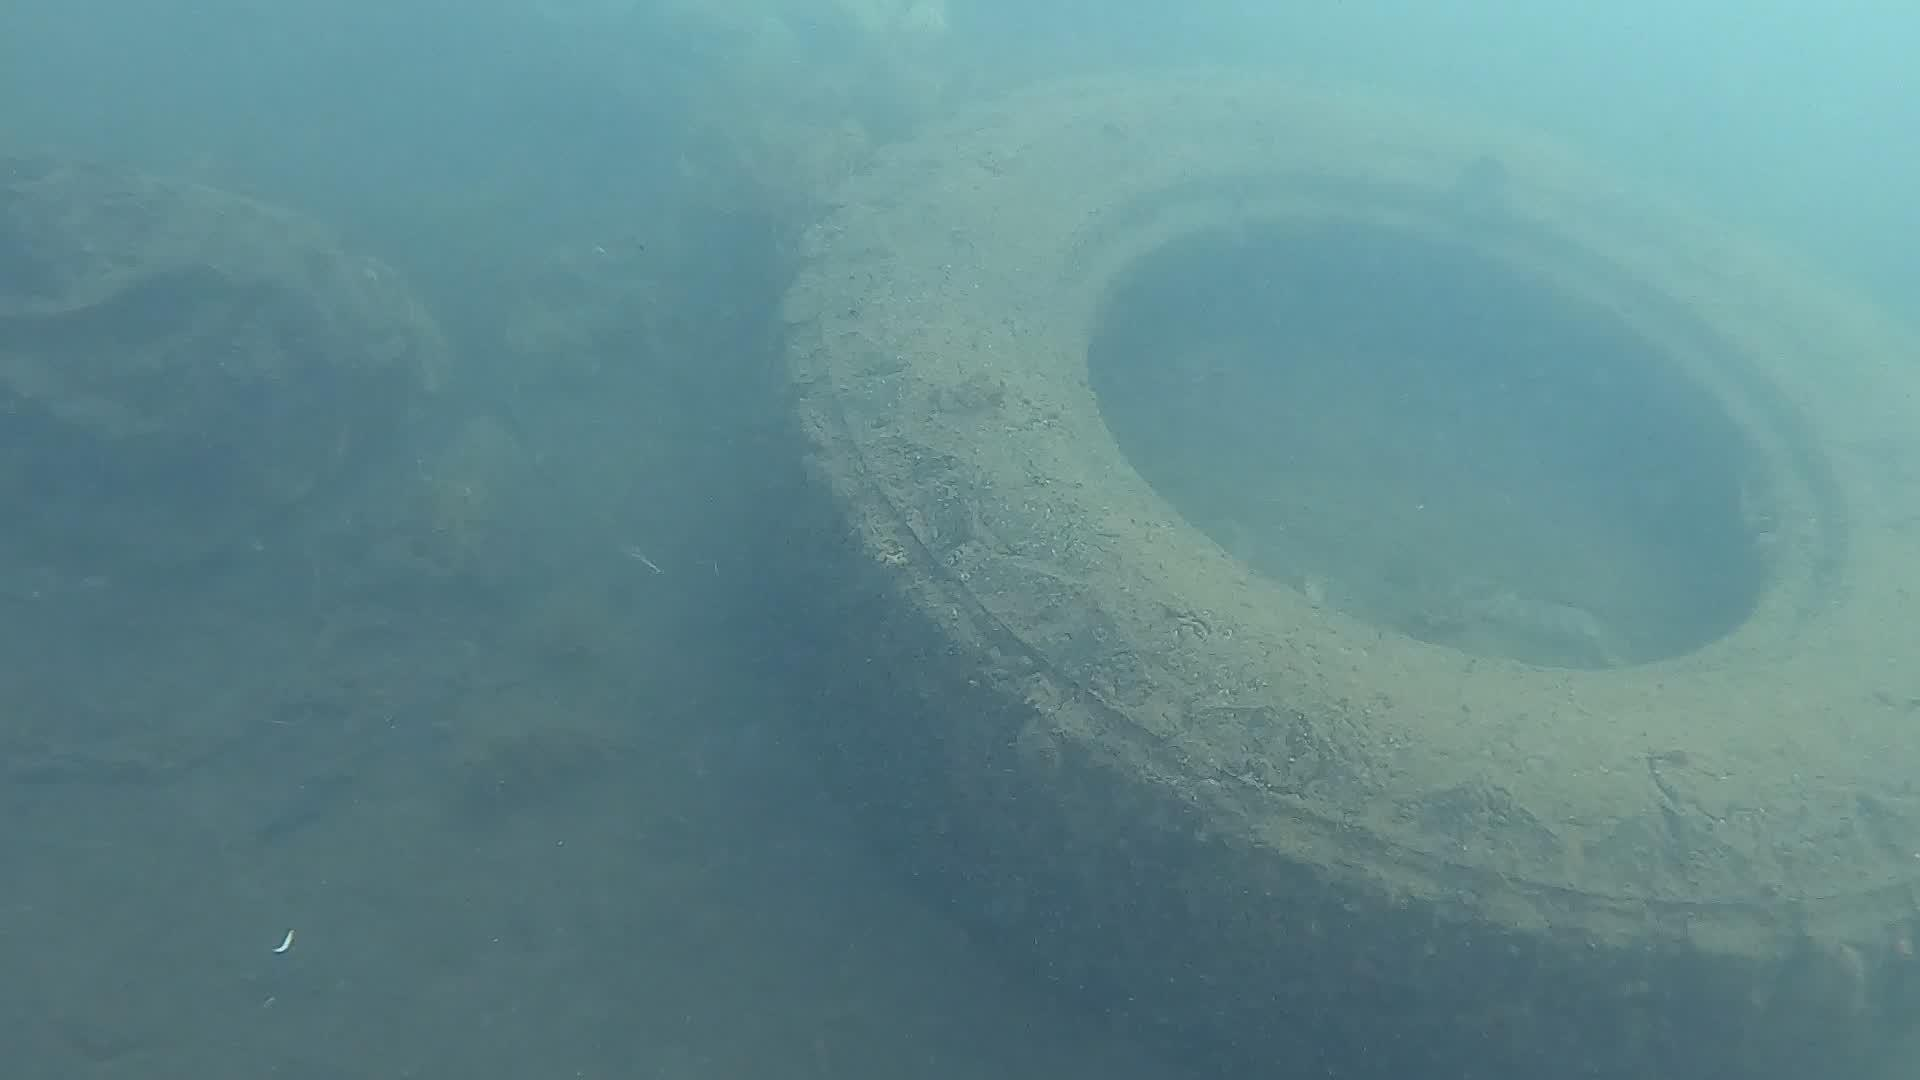tire: (761, 51, 1920, 1080)
